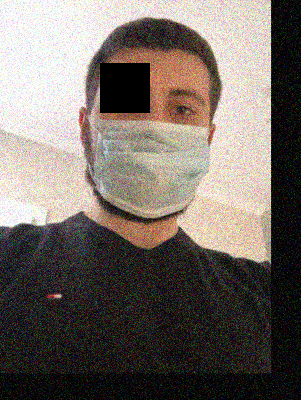with_mask: (85, 73, 211, 226)
